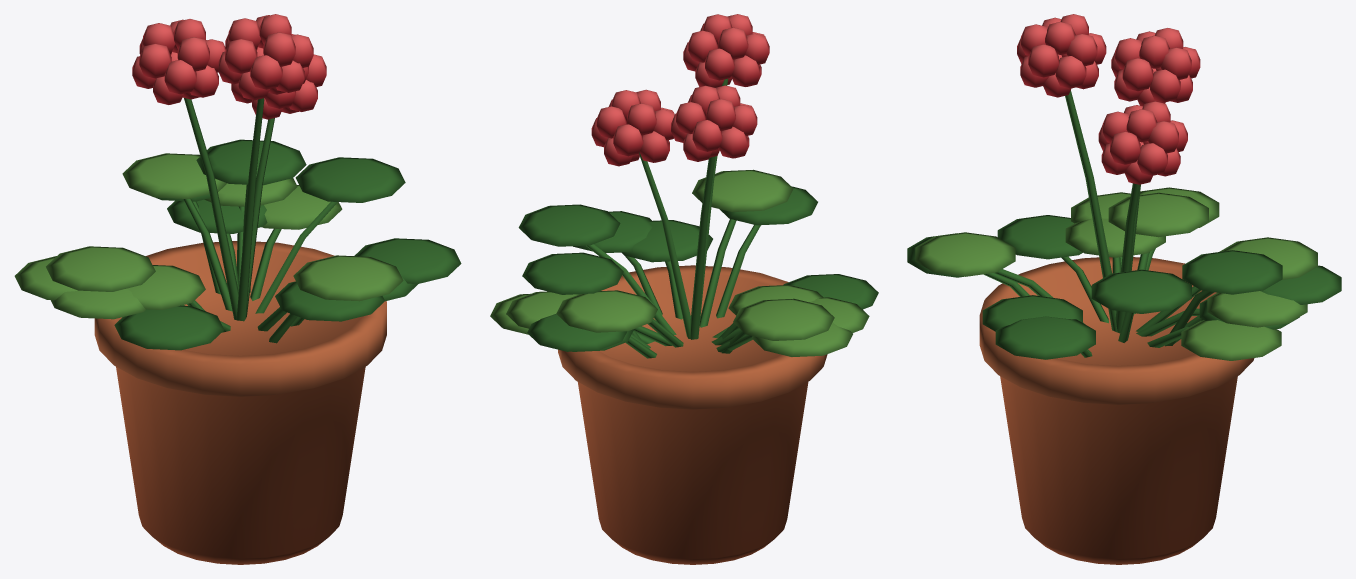
The model's file is Hut_Plant.fbx.
3 views of the same model, side by side, from view 1: azimuth 30°, elevation 25°; view 2: azimuth 150°, elevation 25°; view 3: azimuth 270°, elevation 25° (orthographic). The views are drawn at different scales.
Parts seen in each view (by area): view 1: Hut_Plant; view 2: Hut_Plant; view 3: Hut_Plant.
Part boxes in pixels (left/top/right/bottom): Hut_Plant: left=14, top=14, right=461, bottom=564; Hut_Plant: left=490, top=14, right=878, bottom=564; Hut_Plant: left=907, top=14, right=1341, bottom=564.
Size of the model in its own units: 9.58 by 13.3 by 10.29.
